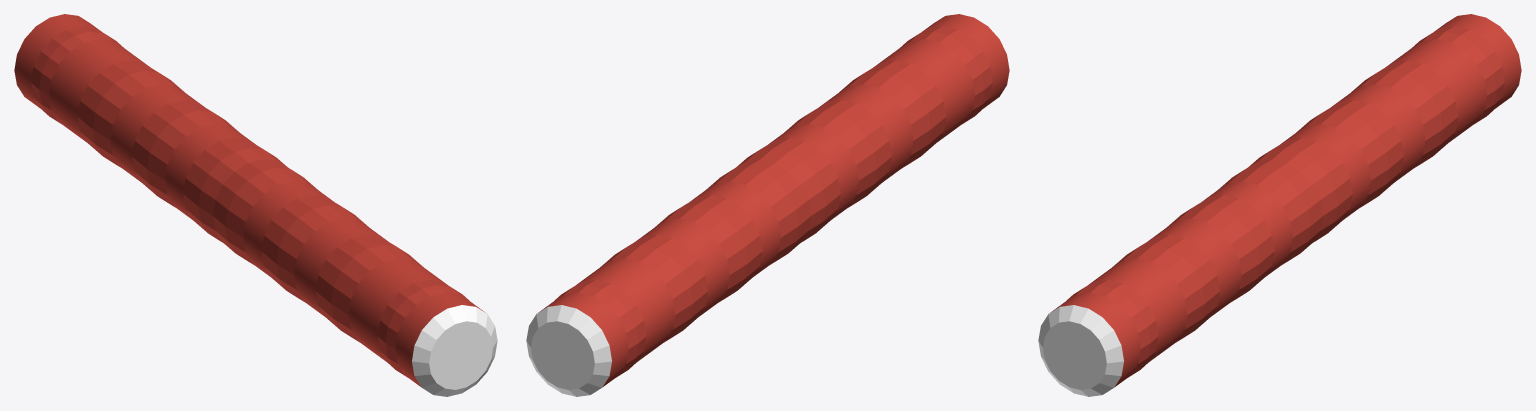
The model's file is SM_sweet_04.fbx.
The picture shows the model from 3 angles, left to right: view 1: azimuth 30°, elevation 25°; view 2: azimuth 150°, elevation 25°; view 3: azimuth 330°, elevation 25°; orthographic projection.
Parts seen in each view (by area): view 1: sweet_04; view 2: sweet_04; view 3: sweet_04.
Part boxes in pixels (x1,y1,x2,y2): sweet_04: (14,14,497,396); sweet_04: (526,14,1009,396); sweet_04: (1038,14,1521,396).
Bounding box in the file's own units: 7.14 × 7.03 × 57.16.
